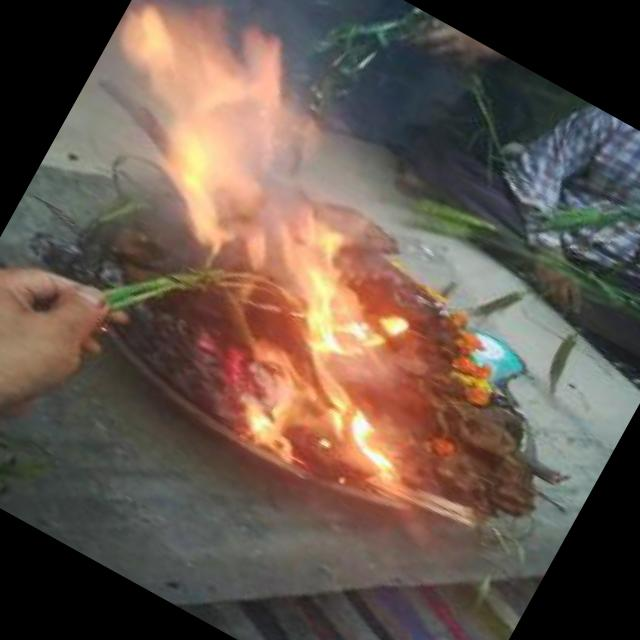fire: (51, 0, 380, 273), (221, 342, 475, 541), (243, 225, 404, 386)
smoke: (145, 0, 430, 105)
